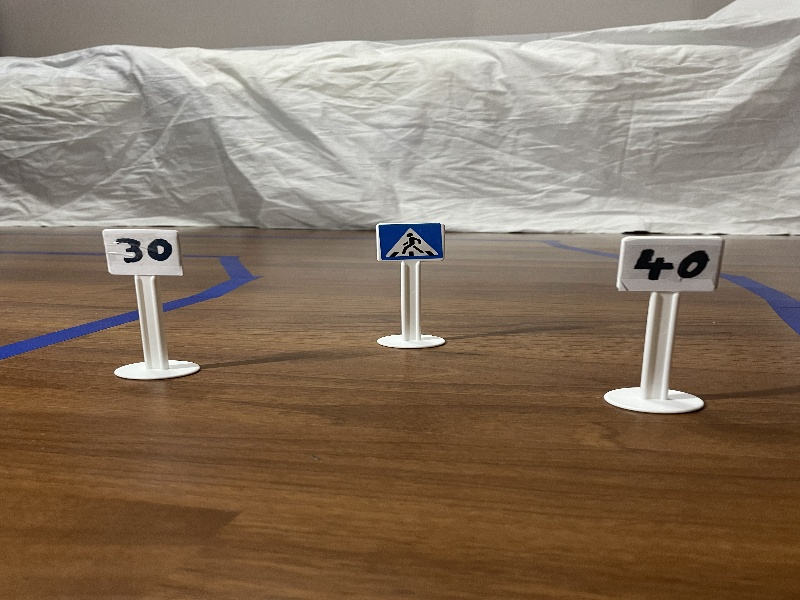trecere_pietoni: (373, 219, 449, 269)
viteza_limita_30: (95, 224, 193, 284)
viteza_limita_40: (616, 229, 728, 299)
